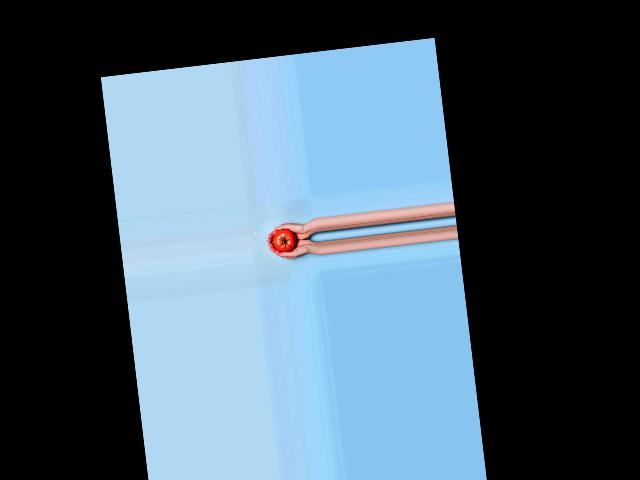tomato: (271, 228, 298, 254)
